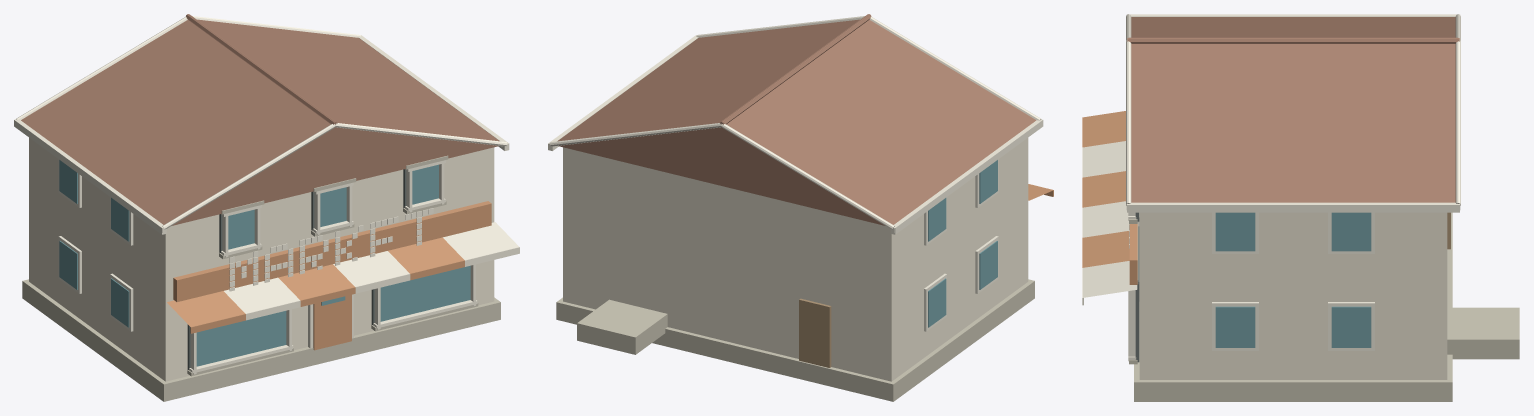
3 views of the same model, side by side, from view 1: azimuth 30°, elevation 25°; view 2: azimuth 150°, elevation 25°; view 3: azimuth 270°, elevation 25° (orthographic). The views are drawn at different scales.
Bounding box in the file's own units: 12.46 × 8.27 × 12.09.
